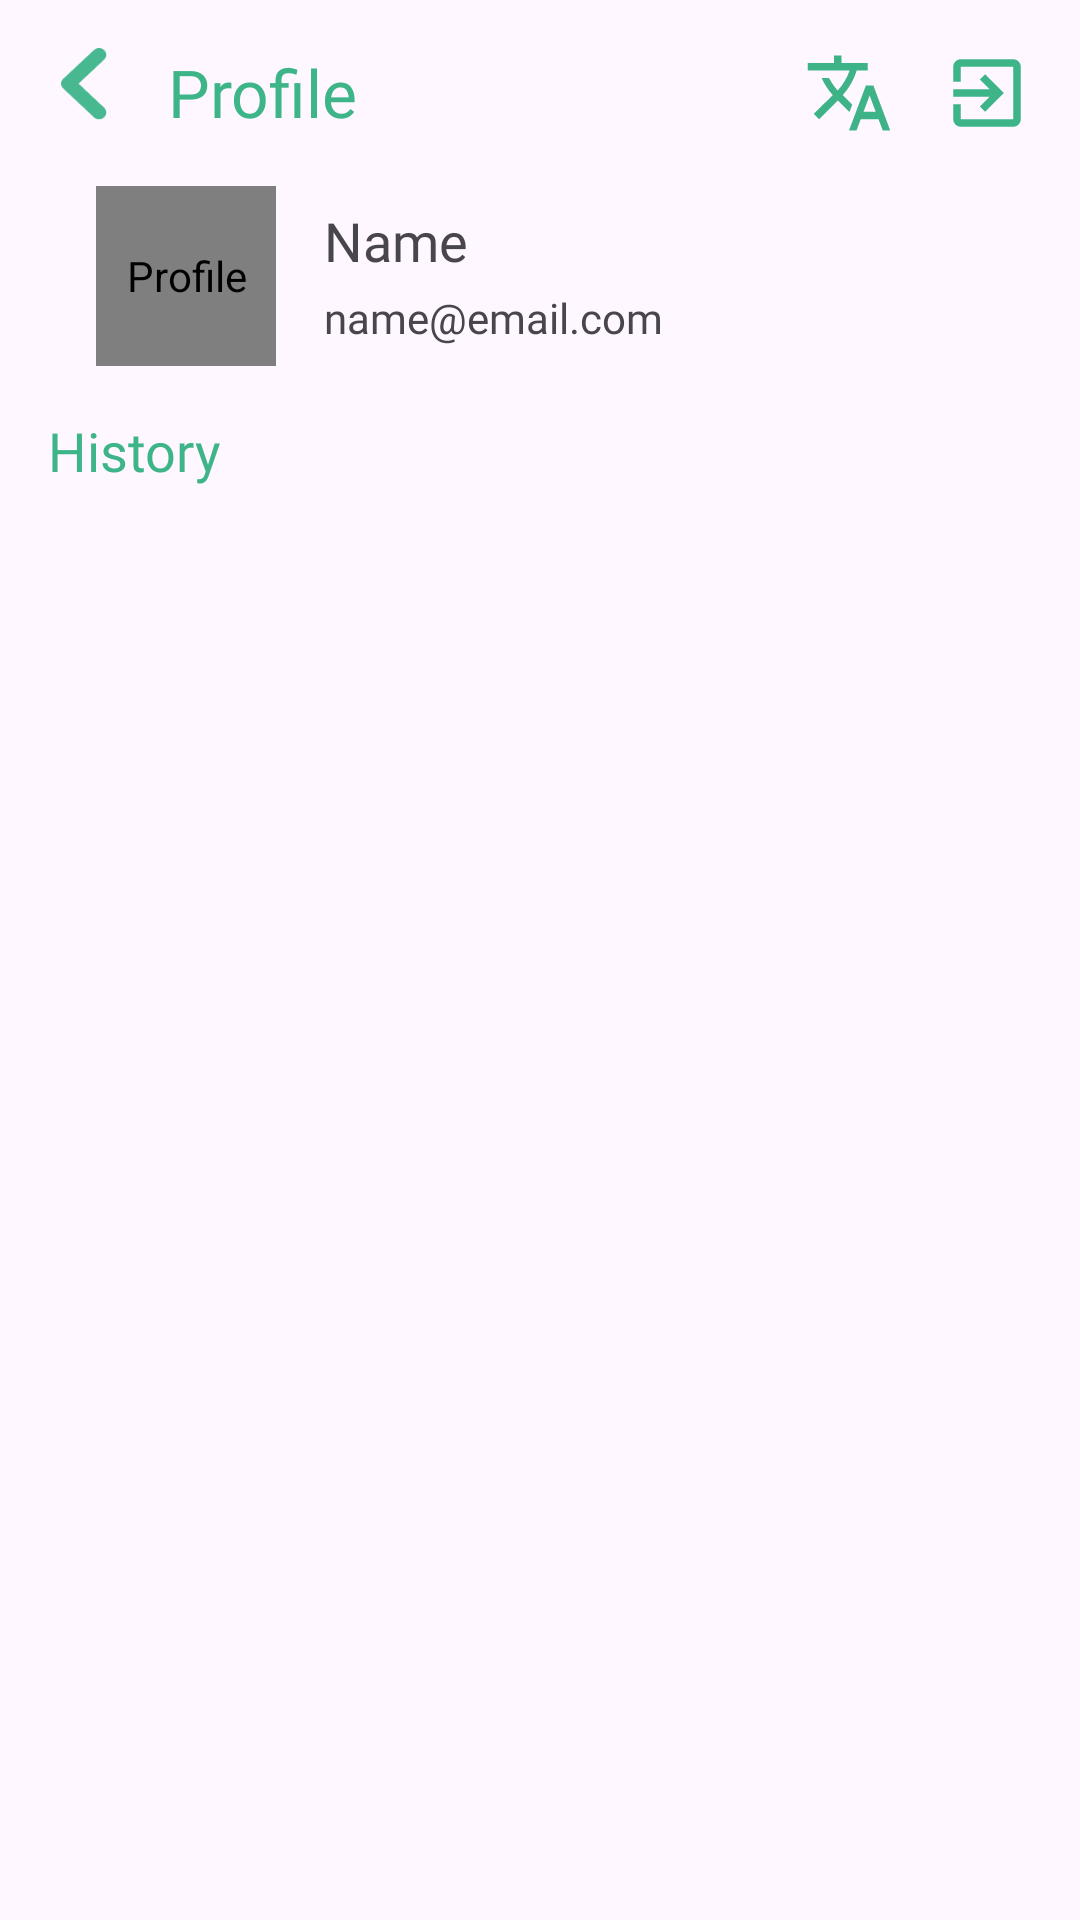

Where to tap for icons on this 1080×1920 app screen, as (x=x, y=y):
Back: (x=84, y=84)
lenguage: (x=848, y=93)
